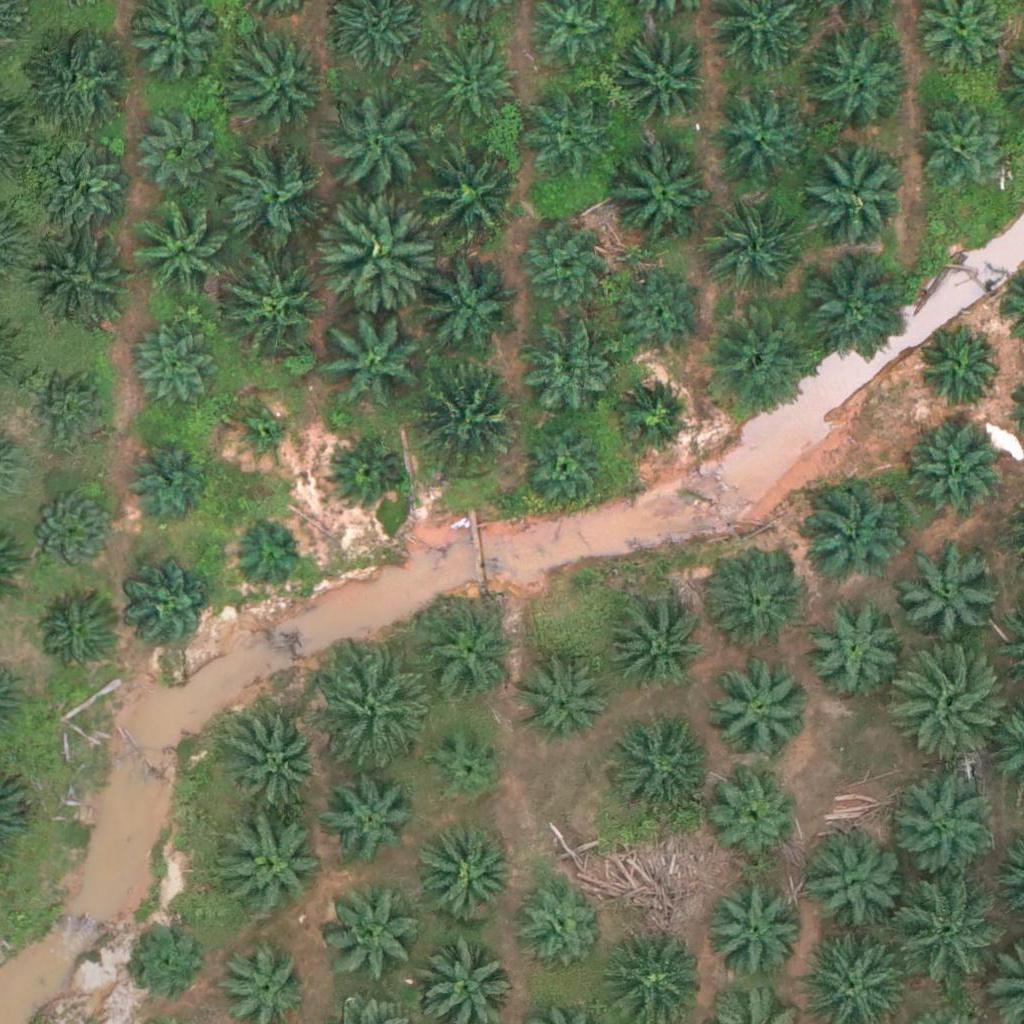Kelapa_Sawit: (223, 30, 336, 144), (799, 20, 912, 134), (315, 655, 428, 769), (18, 26, 131, 139), (329, 196, 442, 309), (603, 131, 716, 244), (702, 311, 815, 424), (791, 132, 904, 245), (328, 90, 440, 204), (222, 140, 334, 253), (221, 242, 333, 355), (324, 305, 436, 418), (417, 136, 529, 249), (415, 357, 527, 470), (696, 192, 808, 305), (795, 255, 907, 368), (892, 876, 1004, 989), (886, 766, 998, 879), (893, 646, 1005, 759), (133, 199, 233, 300), (424, 25, 524, 126), (417, 259, 517, 360), (420, 603, 520, 704), (515, 326, 615, 427), (608, 26, 708, 127), (900, 542, 1000, 643), (798, 481, 898, 582), (706, 546, 806, 647), (606, 595, 706, 696), (803, 833, 903, 934), (708, 881, 808, 982), (711, 656, 811, 757), (607, 716, 707, 817), (34, 222, 134, 322), (707, 84, 807, 184), (903, 428, 1003, 528), (802, 597, 902, 697), (416, 824, 516, 924), (324, 882, 424, 982), (228, 712, 328, 812), (219, 818, 319, 918), (139, 107, 227, 195), (131, 327, 219, 415), (128, 566, 216, 654), (611, 371, 699, 459), (920, 102, 1008, 190), (521, 658, 609, 746), (33, 593, 120, 681), (28, 486, 115, 574), (28, 365, 115, 453), (40, 149, 127, 237), (126, 433, 213, 521), (526, 97, 613, 185), (522, 222, 609, 310), (524, 426, 611, 514), (617, 267, 704, 355), (916, 325, 1003, 413), (711, 768, 798, 856), (515, 879, 602, 967), (325, 779, 412, 867), (124, 916, 211, 1004), (326, 434, 401, 510), (429, 728, 504, 804), (232, 517, 307, 592), (233, 406, 296, 469)
